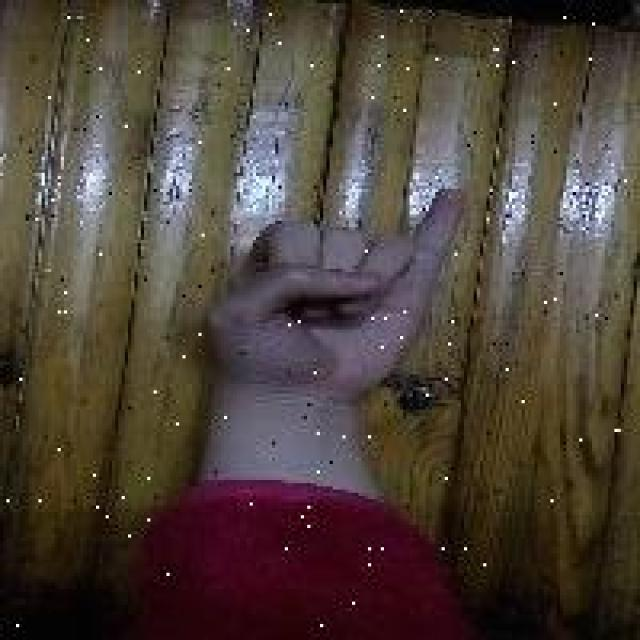I: (202, 181, 470, 405)
